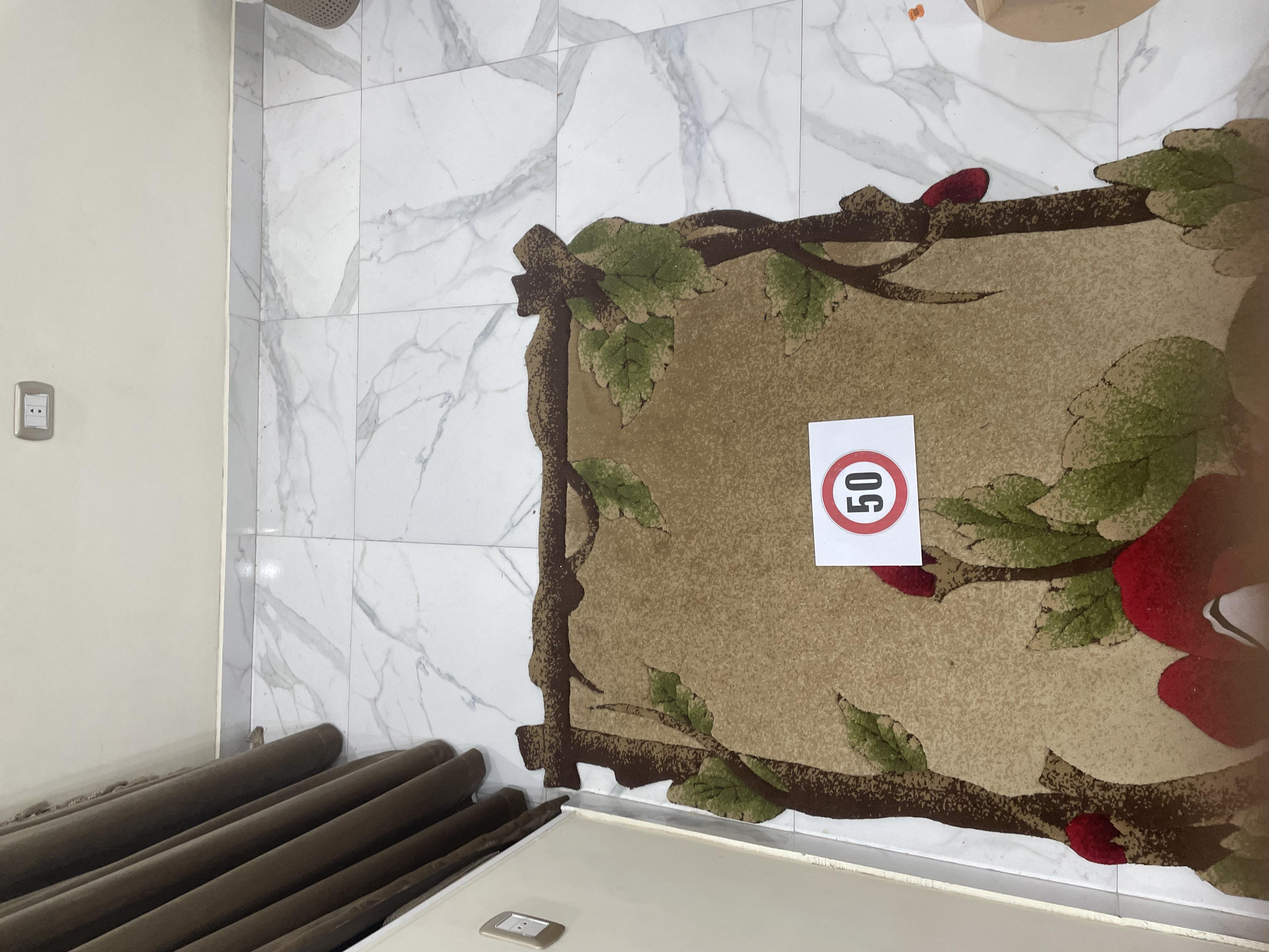50-Speed: (554, 614, 672, 682)
